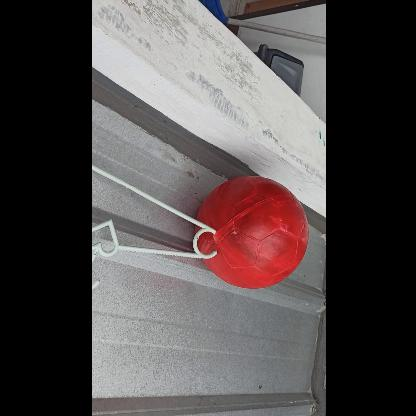red_ball: (195, 176, 309, 290)
